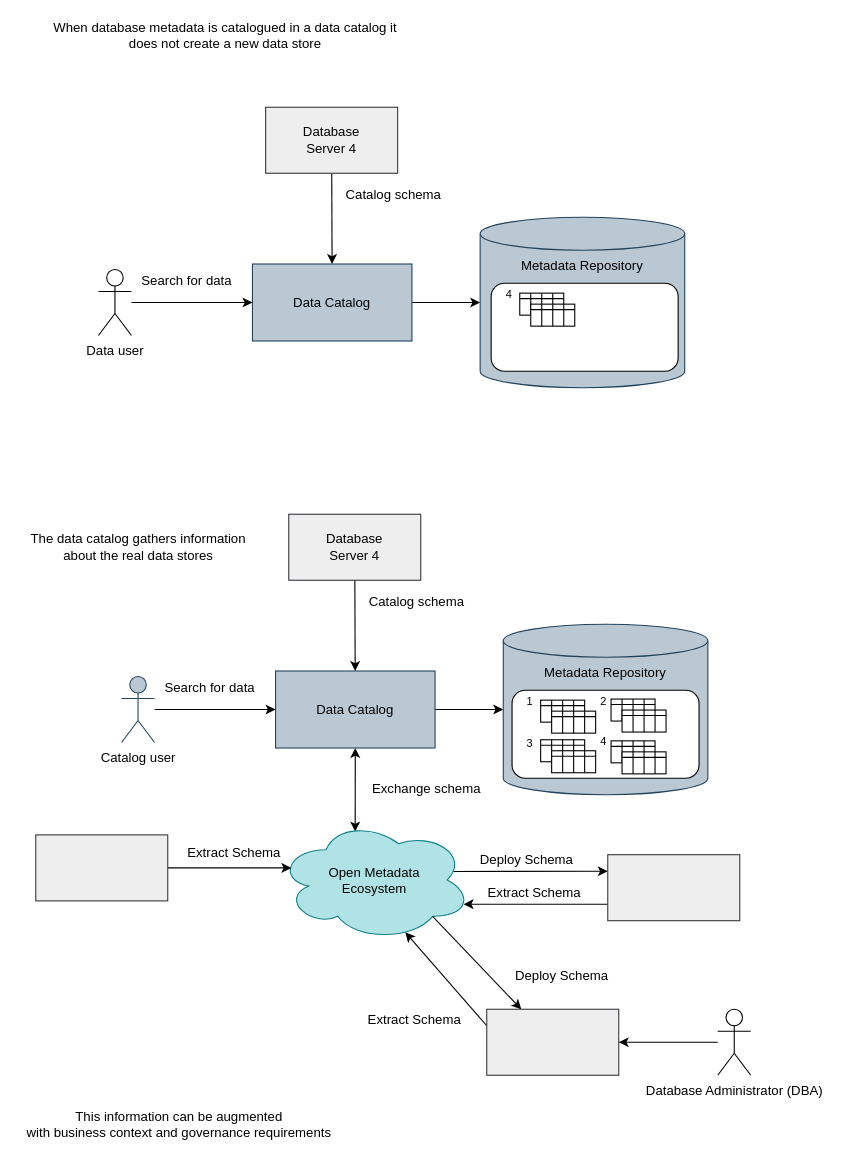
Some shapes in this 842 by 1159 pixel diagram are drawn without their labels. Each missing label, with the centre of its shape:
"Database Server 1" belongs at point 101,867.
"Database Server 2" belongs at point 673,887.
"Database Server 3" belongs at point 552,1041.
